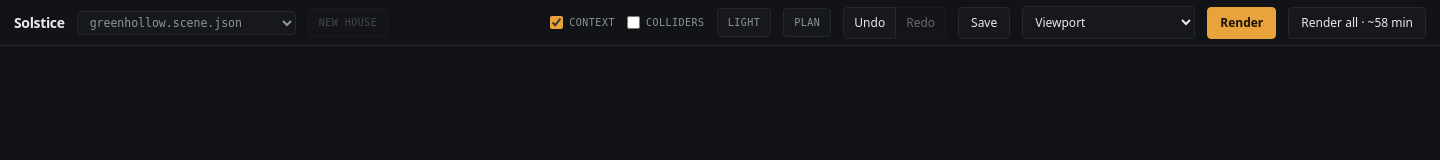
Test: the undo and redo buttons › disables Undo once the last step is undone
Click the button "Undo": (870, 22) x1=843 y1=6 x2=896 y2=38
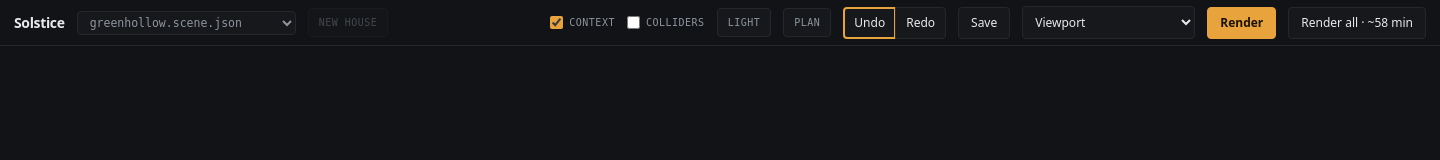
Click the button "Undo": (870, 22) x1=843 y1=6 x2=896 y2=38
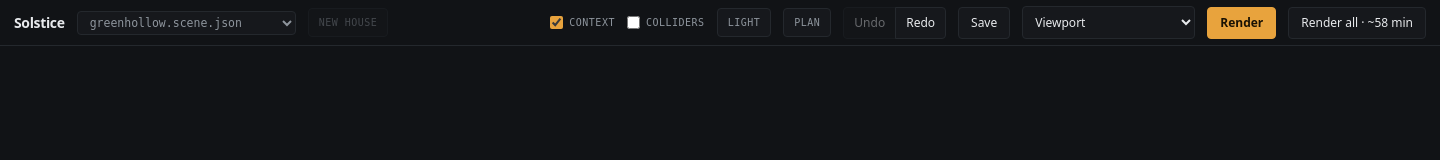
Now the button "Redo" is enabled, box x1=895 y1=6 x2=946 y2=38
Now the button "Undo" is disabled, box x1=843 y1=6 x2=896 y2=38
